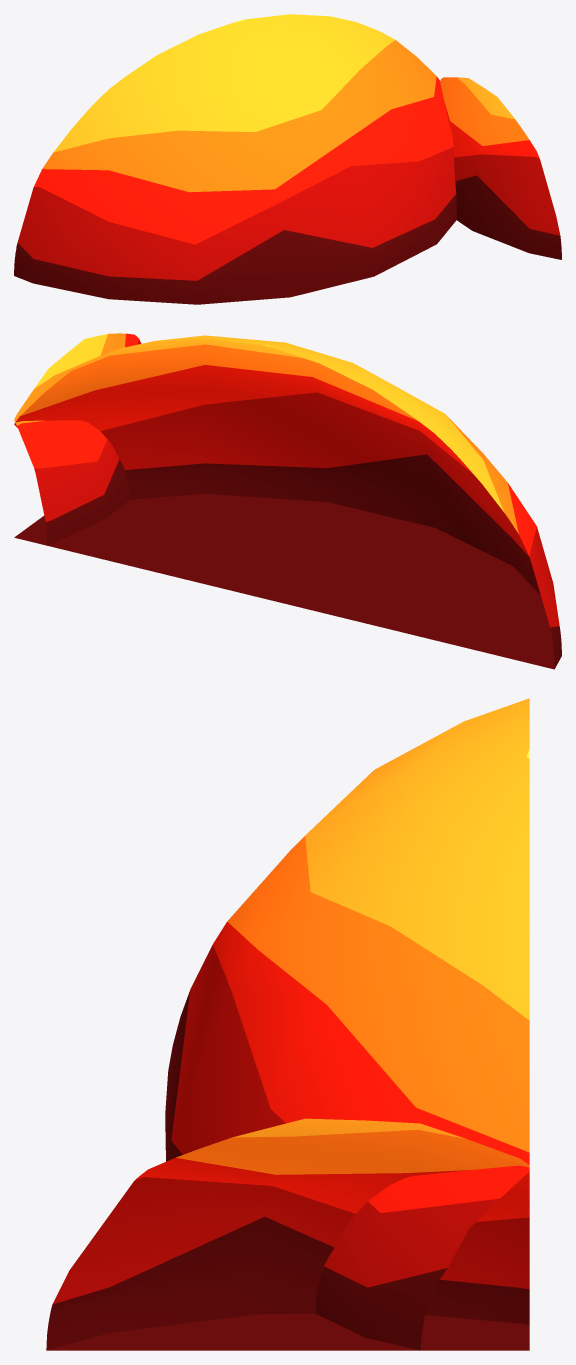
The model's file is shot_charge_b226.glb.
3 views of the same model, one above another, from view 1: azimuth 30°, elevation 25°; view 2: azimuth 150°, elevation 25°; view 3: azimuth 270°, elevation 25° (orthographic). The views are drawn at different scales.
Parts seen in each view (by area): view 1: charge_twin5_b_fire_shot_charge_b226, charge_twin5_a_fire_shot_charge_b226; view 2: charge_twin5_b_fire_shot_charge_b226, charge_twin5_a_fire_shot_charge_b226; view 3: charge_twin5_b_fire_shot_charge_b226, charge_twin5_a_fire_shot_charge_b226.
Boxes of the visible parts, x1,y1,x2,y2 form: charge_twin5_b_fire_shot_charge_b226: (14, 14, 456, 304); charge_twin5_a_fire_shot_charge_b226: (440, 77, 561, 259); charge_twin5_b_fire_shot_charge_b226: (14, 335, 561, 669); charge_twin5_a_fire_shot_charge_b226: (14, 333, 141, 545); charge_twin5_b_fire_shot_charge_b226: (165, 698, 529, 1350); charge_twin5_a_fire_shot_charge_b226: (46, 1118, 529, 1350).
Bounding box in the file's own units: 10.6 × 4.75 × 5.19.
